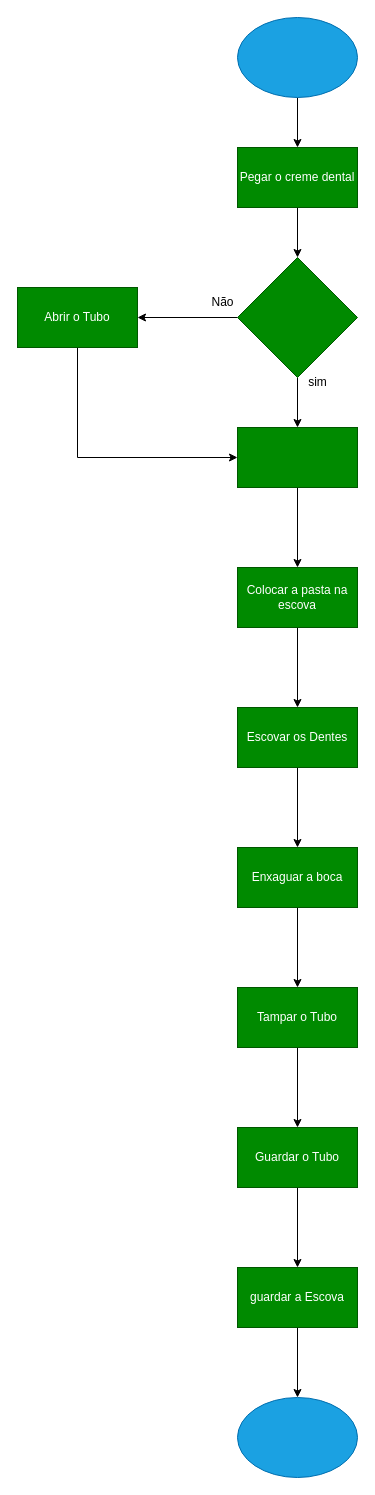
Image size: 375x1495. Some labels were removed from this diagram. Here are the shapes that lost their labels. From the top down, the box of each, then its label:
(236, 16, 358, 98): início
(236, 256, 358, 378): Tubo está aberto?
(236, 426, 358, 488): Pegar a escova
(236, 1396, 358, 1478): Fim
